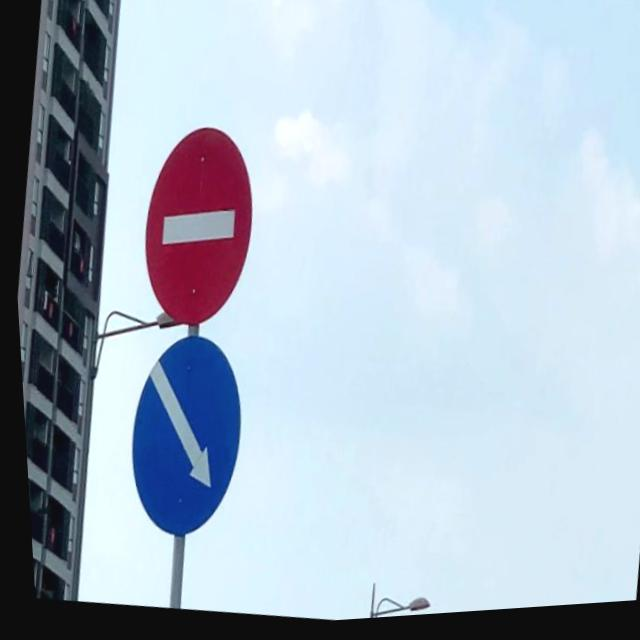Cam di nguoc chieu: (124, 118, 268, 339)
Vong chuong ngai vat sang phai: (109, 327, 254, 550)
